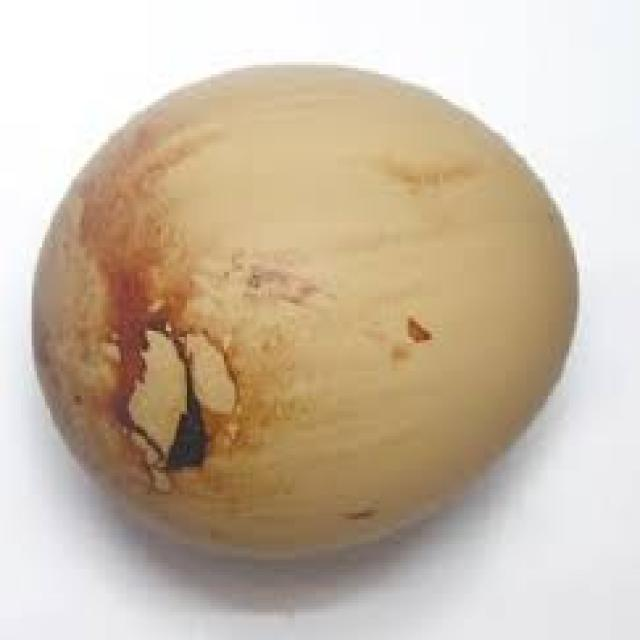Blood Stained Egg: (14, 59, 591, 574)
